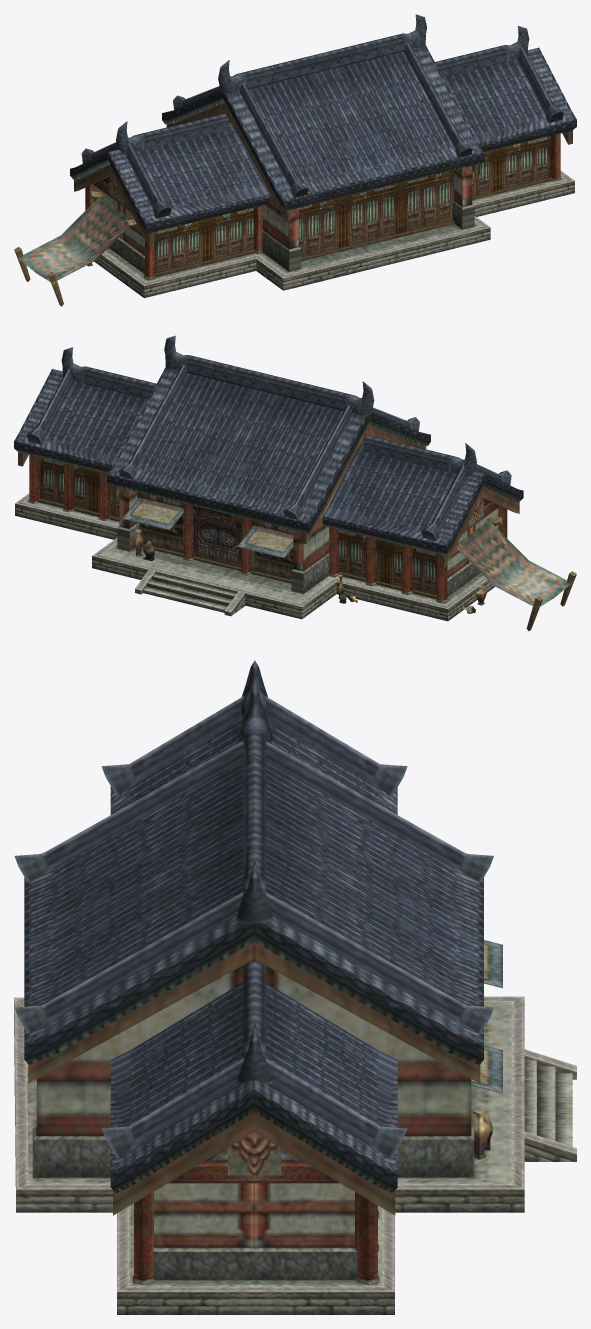
Rendered from house002.FBX.
3 views of the same model, one above another, from view 1: azimuth 30°, elevation 25°; view 2: azimuth 150°, elevation 25°; view 3: azimuth 270°, elevation 25° (orthographic). The views are drawn at different scales.
Parts seen in each view (by area): view 1: house002; view 2: house002; view 3: house002.
Boxes of the visible parts, left/top/right/bottom form: house002: left=14, top=14, right=576, bottom=306; house002: left=14, top=335, right=576, bottom=630; house002: left=14, top=660, right=576, bottom=1314.
Bounding box in the file's own units: 415 × 149 × 212.
